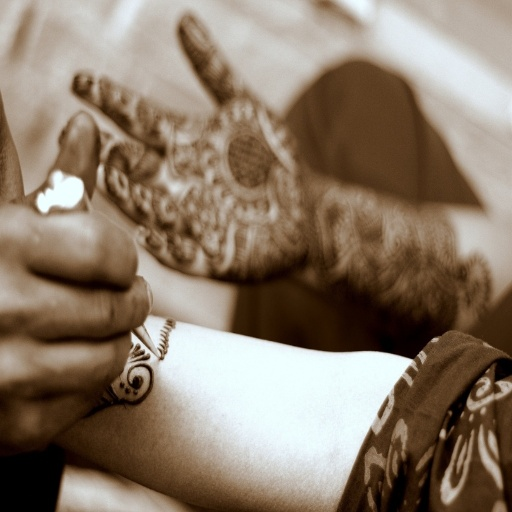hand: (71, 6, 318, 285), (0, 114, 152, 460), (0, 88, 25, 204)
